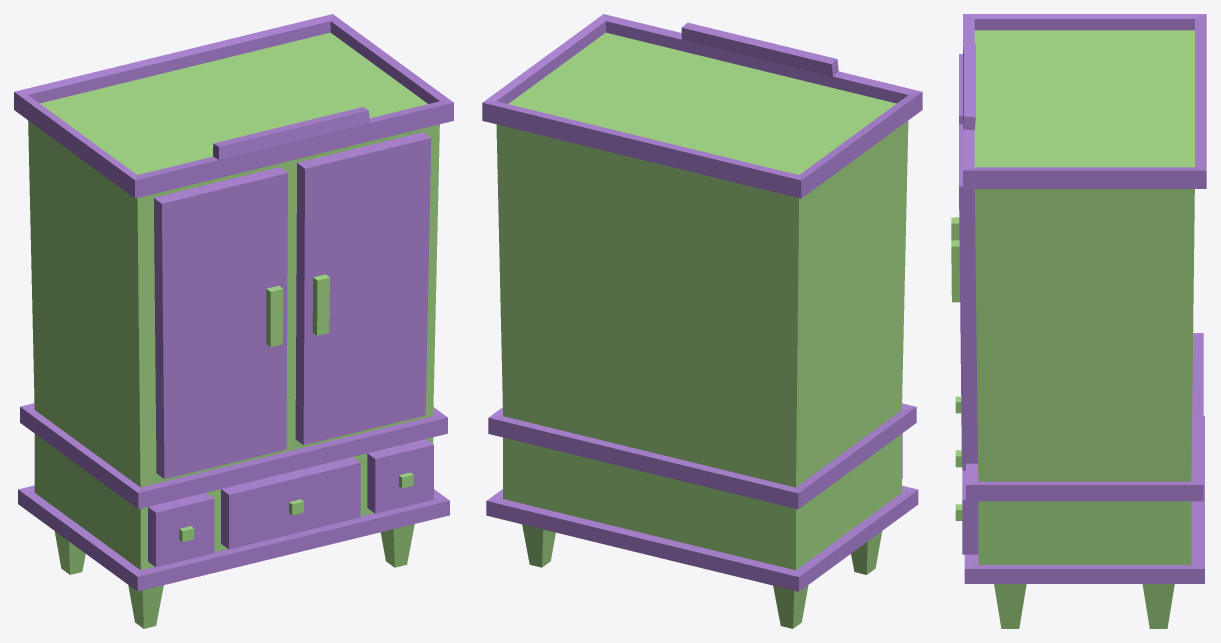
File: Closet2.glb
3 views of the same model, side by side, from view 1: azimuth 30°, elevation 25°; view 2: azimuth 150°, elevation 25°; view 3: azimuth 270°, elevation 25° (orthographic).
Parts seen in each view (by area): view 1: Closet2_1, Closet2_0; view 2: Closet2_0, Closet2_1; view 3: Closet2_0, Closet2_1.
Part boxes in pixels (<box>): Closet2_1: <box>14,14,453,591</box>; Closet2_0: <box>28,32,439,628</box>; Closet2_0: <box>496,32,908,628</box>; Closet2_1: <box>482,14,922,591</box>; Closet2_0: <box>951,30,1194,628</box>; Closet2_1: <box>959,14,1206,583</box>.
Bounding box in the file's own units: 0.6896 × 0.9958 × 0.4755.
